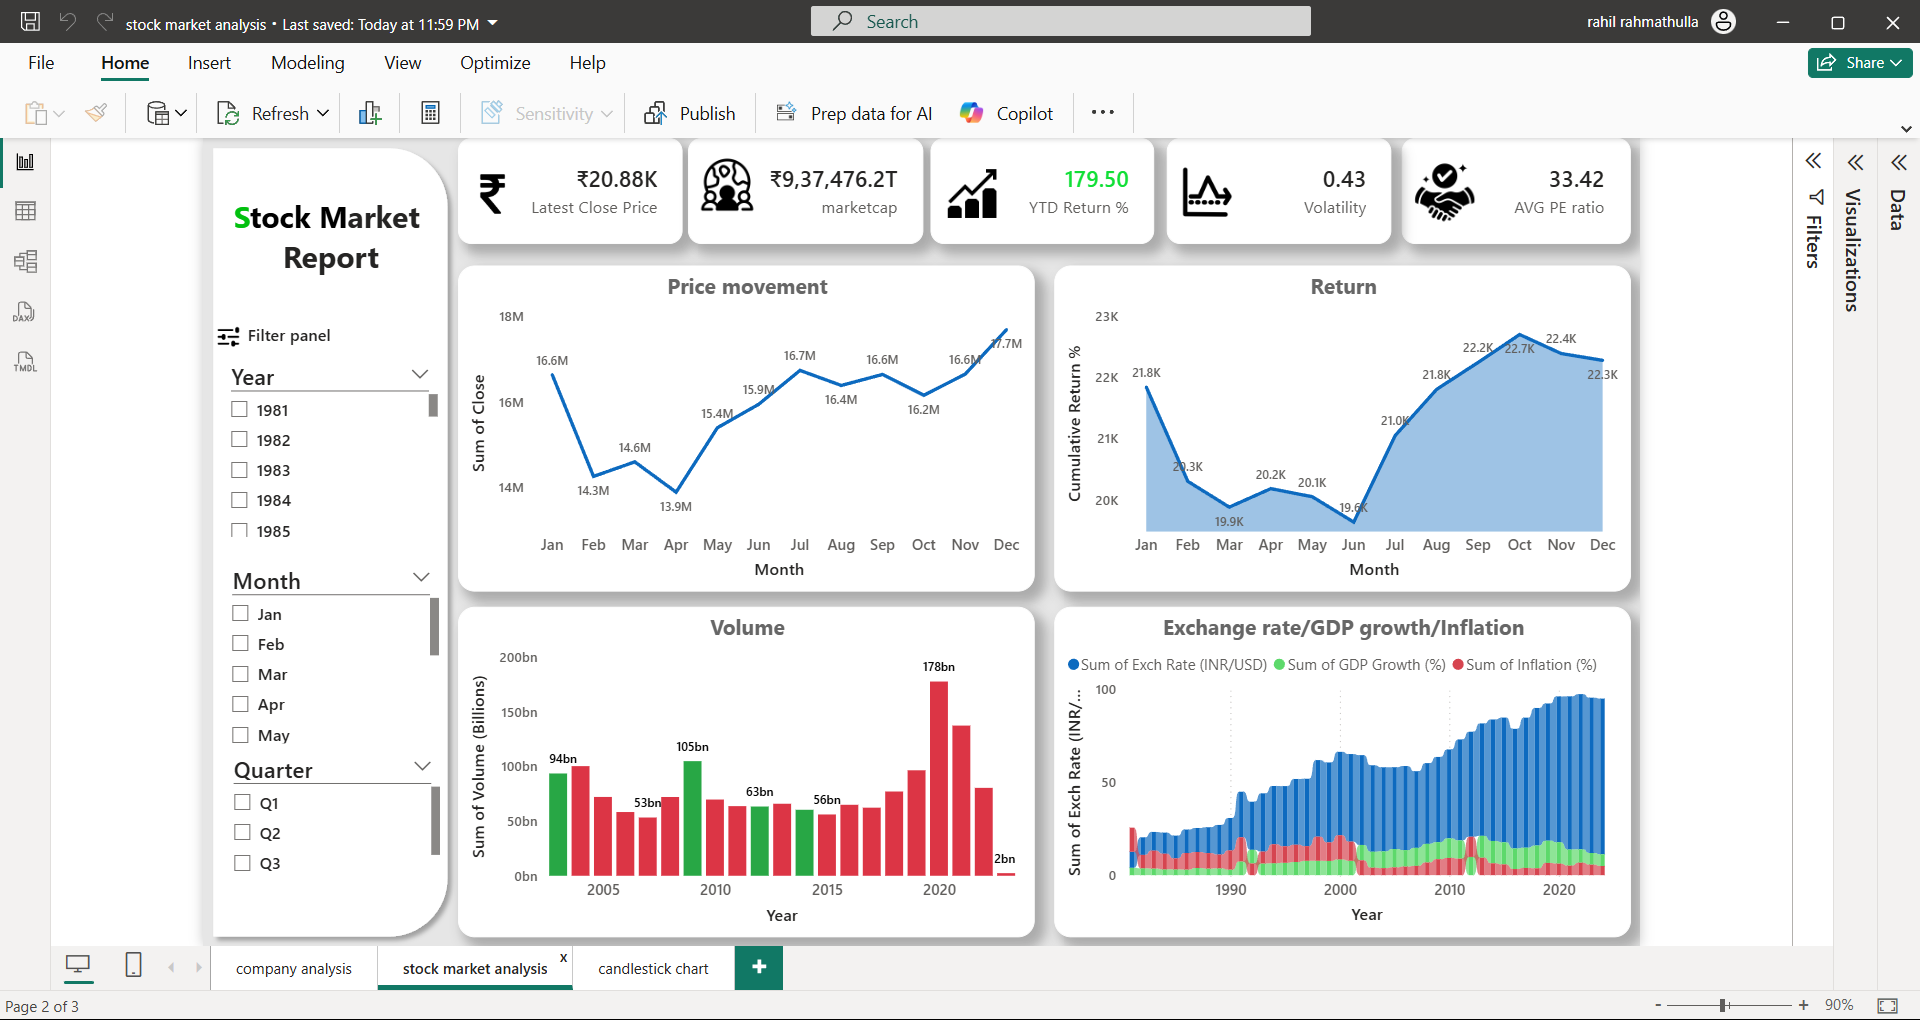

The page's visual inventory and layout, read from the dashboard file:
{"tool":"powerbi","page":{"name":"stock market analysis","canvas":[1280,720],"ordinal":1},"visuals":[{"type":"shape","box":[0,0,226.8,720.2],"z":0},{"type":"cardVisual","fields":{"Data":["Measure.Latest Close Price"]},"box":[226.8,0,200.3,94.1],"z":1000},{"type":"cardVisual","fields":{"Data":["Measure.marketcap"]},"box":[431.9,0,209.9,94.1],"z":2000},{"type":"cardVisual","fields":{"Data":["Measure.YTD Return %"]},"box":[647.9,0,199.1,94.1],"z":3000},{"type":"cardVisual","fields":{"Data":["Measure.AVG PE ratio"]},"box":[1067.7,0,203.9,94.1],"z":4000},{"type":"cardVisual","fields":{"Data":["Measure.Volatility (Std Dev)"]},"box":[858.3,0,200.4,94.6],"z":5000},{"type":"lineChart","title":"Price movement","fields":{"Y":["Sum(stock_price.Close)"],"Category":["date table.Month"]},"box":[226.8,113.4,513.9,290.8],"z":6000},{"type":"columnChart","title":"Volume","fields":{"Category":["date table.Year"],"Y":["Sum(stock_price.Volume)"]},"box":[226.8,417.4,513.9,294.4],"z":7000},{"type":"areaChart","title":"Return","fields":{"Category":["date table.Month"],"Y":["Measure.Cumulative Return %"]},"box":[757.6,113.4,513.9,290.8],"z":8000},{"type":"textbox","box":[8.4,47.1,209.9,84.5],"z":9000},{"type":"image","box":[12.1,160.5,20.5,33.8],"z":10000},{"type":"slicer","fields":{"Values":["date table.Month"]},"box":[13.3,375.2,201.5,168.9],"z":10000,"group":"g1"},{"type":"ribbonChart","title":"Exchange rate/GDP growth/Inflation","fields":{"Y":["Sum(indian stock market data old.Exch Rate (INR/USD))","Sum(indian stock market data old.GDP Growth (%))","Sum(indian stock market data old.Inflation (%))"],"Category":["indian stock market data old.Year"]},"box":[757.6,417.4,513.9,294.4],"z":11000},{"type":"group","id":"g1","title":"Group 1","box":[12.1,194.2,203.9,470.5],"z":12000},{"type":"textbox","box":[32.6,160.5,89.3,42.2],"z":13000},{"type":"slicer","fields":{"Values":["date table.Year"]},"box":[12.1,194.2,201.5,166.5],"z":13000,"group":"g1"},{"type":"image","box":[440.4,15.7,51.9,51.9],"z":14000},{"type":"slicer","fields":{"Values":["date table.Quarter"]},"box":[14.5,544.1,201.5,120.6],"z":14000,"group":"g1"},{"type":"image","box":[226.8,32.6,61.5,35],"z":15000},{"type":"image","box":[871.6,22.3,45.6,52.3],"z":16000},{"type":"image","box":[659.9,21.7,49.5,54.3],"z":17000},{"type":"image","box":[1078.6,20.5,54.3,56.7],"z":18000}]}

Visuals, with their boxes on the page's 1280x720 design canvas (x1, y1, x2, y2). These are canvas units, not pixel positions in the 1920x1020 screenshot, which may show the page scaled, cropped or inside an application window:
shape: [0, 0, 227, 720]
cardVisual - Measure.Latest Close Price: [227, 0, 427, 94]
cardVisual - Measure.marketcap: [432, 0, 642, 94]
cardVisual - Measure.YTD Return %: [648, 0, 847, 94]
cardVisual - Measure.AVG PE ratio: [1068, 0, 1272, 94]
cardVisual - Measure.Volatility (Std Dev): [858, 0, 1059, 95]
"Price movement" lineChart: [227, 113, 741, 404]
"Volume" columnChart: [227, 417, 741, 712]
"Return" areaChart: [758, 113, 1272, 404]
textbox: [8, 47, 218, 132]
image: [12, 160, 33, 194]
slicer - date table.Month: [13, 375, 215, 544]
"Exchange rate/GDP growth/Inflation" ribbonChart: [758, 417, 1272, 712]
"Group 1" group: [12, 194, 216, 665]
textbox: [33, 160, 122, 203]
slicer - date table.Year: [12, 194, 214, 361]
image: [440, 16, 492, 68]
slicer - date table.Quarter: [14, 544, 216, 665]
image: [227, 33, 288, 68]
image: [872, 22, 917, 75]
image: [660, 22, 709, 76]
image: [1079, 20, 1133, 77]
